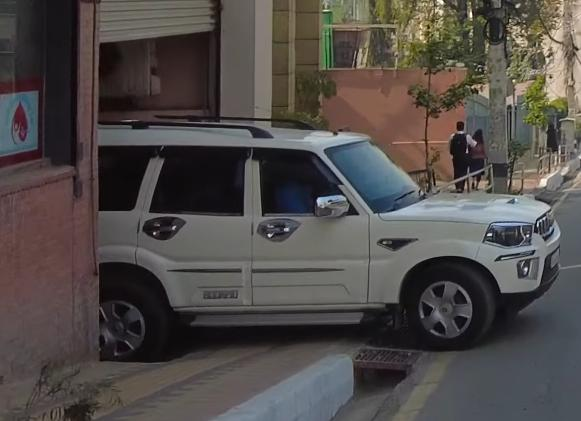SUV: (91, 114, 564, 351)
